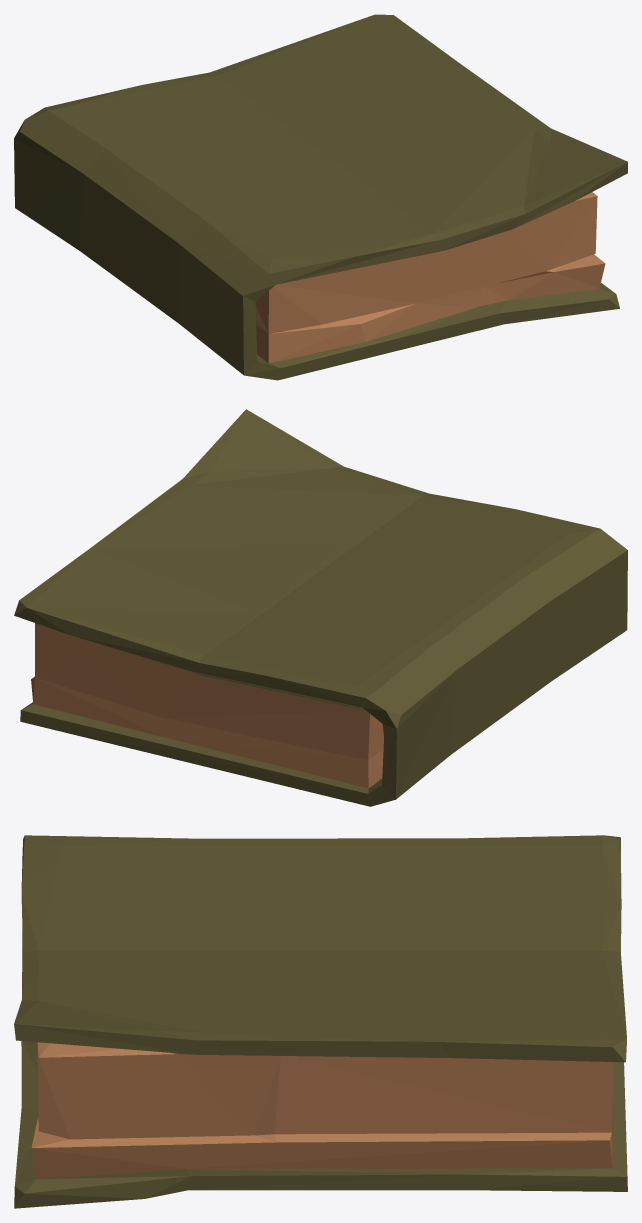
File: MDungeon_Book_04.FBX
3 views of the same model, one above another, from view 1: azimuth 30°, elevation 25°; view 2: azimuth 150°, elevation 25°; view 3: azimuth 270°, elevation 25° (orthographic). The views are drawn at different scales.
Parts seen in each view (by area): view 1: MDgn_Book_04_LOD0; view 2: MDgn_Book_04_LOD0; view 3: MDgn_Book_04_LOD0.
Boxes of the visible parts, left/top/right/bottom form: MDgn_Book_04_LOD0: left=14, top=14, right=627, bottom=380; MDgn_Book_04_LOD0: left=14, top=409, right=627, bottom=806; MDgn_Book_04_LOD0: left=14, top=835, right=627, bottom=1208.
Size of what is drawn, in the model's own units: 0.4026 by 0.1462 by 0.429.
